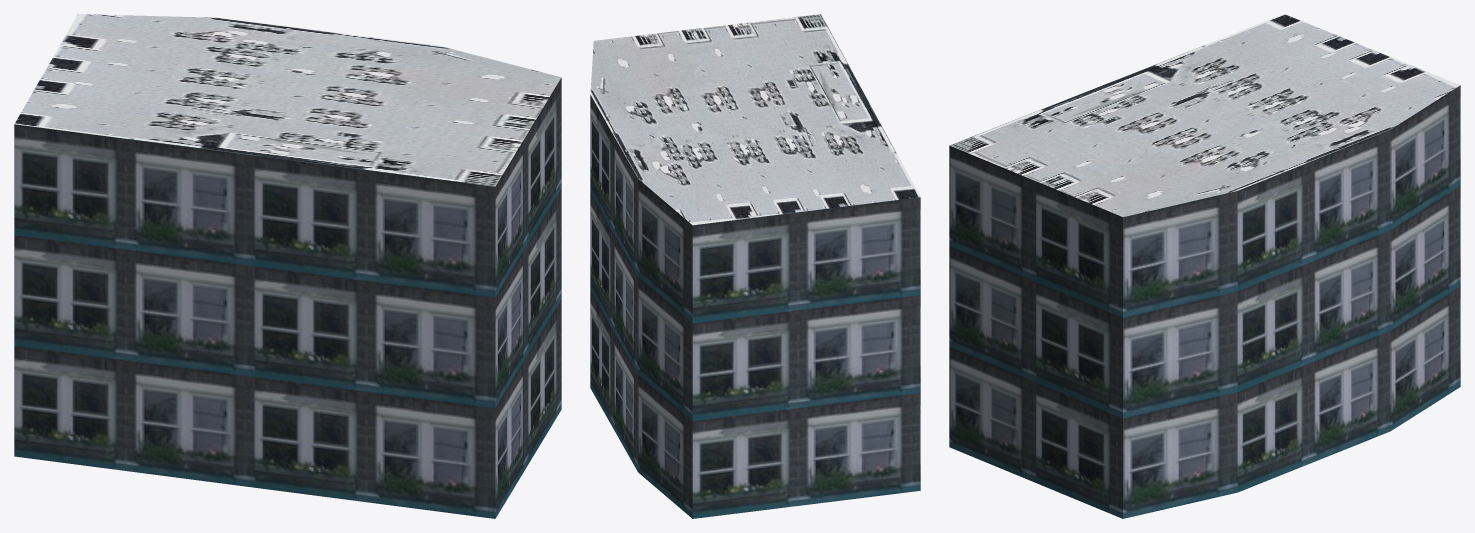
File: ResTex__2287.fbx
The picture shows the model from 3 angles, left to right: view 1: azimuth 30°, elevation 25°; view 2: azimuth 150°, elevation 25°; view 3: azimuth 270°, elevation 25°; orthographic projection. The views are drawn at different scales.
Visible parts, largest first — view 1: CityEngineMaterial_11_m, CityEngineMaterial_4_m; view 2: CityEngineMaterial_11_m, CityEngineMaterial_4_m; view 3: CityEngineMaterial_11_m, CityEngineMaterial_4_m.
Part boxes in pixels (box(x1,y1,x2,y2)): CityEngineMaterial_11_m: box(14, 78, 561, 518); CityEngineMaterial_4_m: box(14, 14, 561, 186); CityEngineMaterial_11_m: box(590, 95, 920, 518); CityEngineMaterial_4_m: box(590, 14, 919, 225); CityEngineMaterial_11_m: box(949, 85, 1460, 518); CityEngineMaterial_4_m: box(950, 14, 1459, 216).
Bounding box in the file's own units: 13 × 9 × 13.82.
2 materials, 2 textured.
